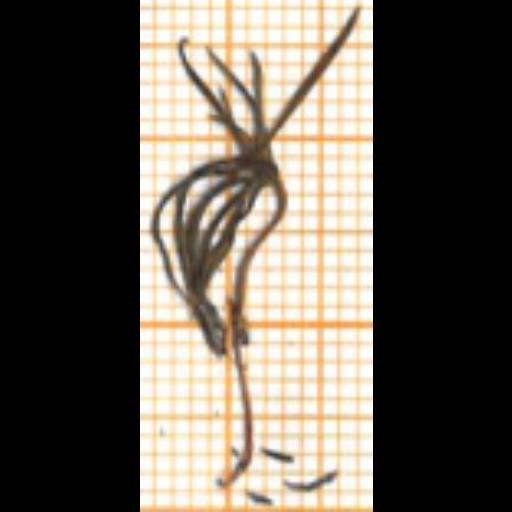flowerPinus: (152, 31, 350, 355)
